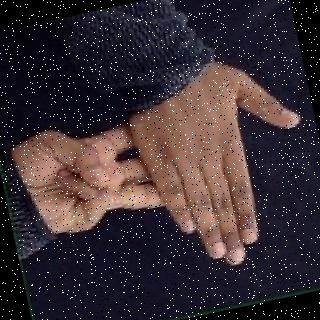M: (4, 34, 320, 293)
